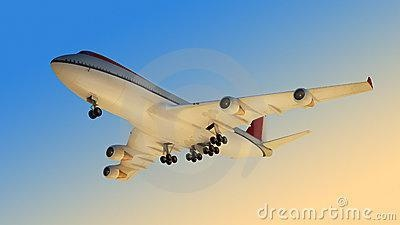airplane: (43, 46, 376, 181)
